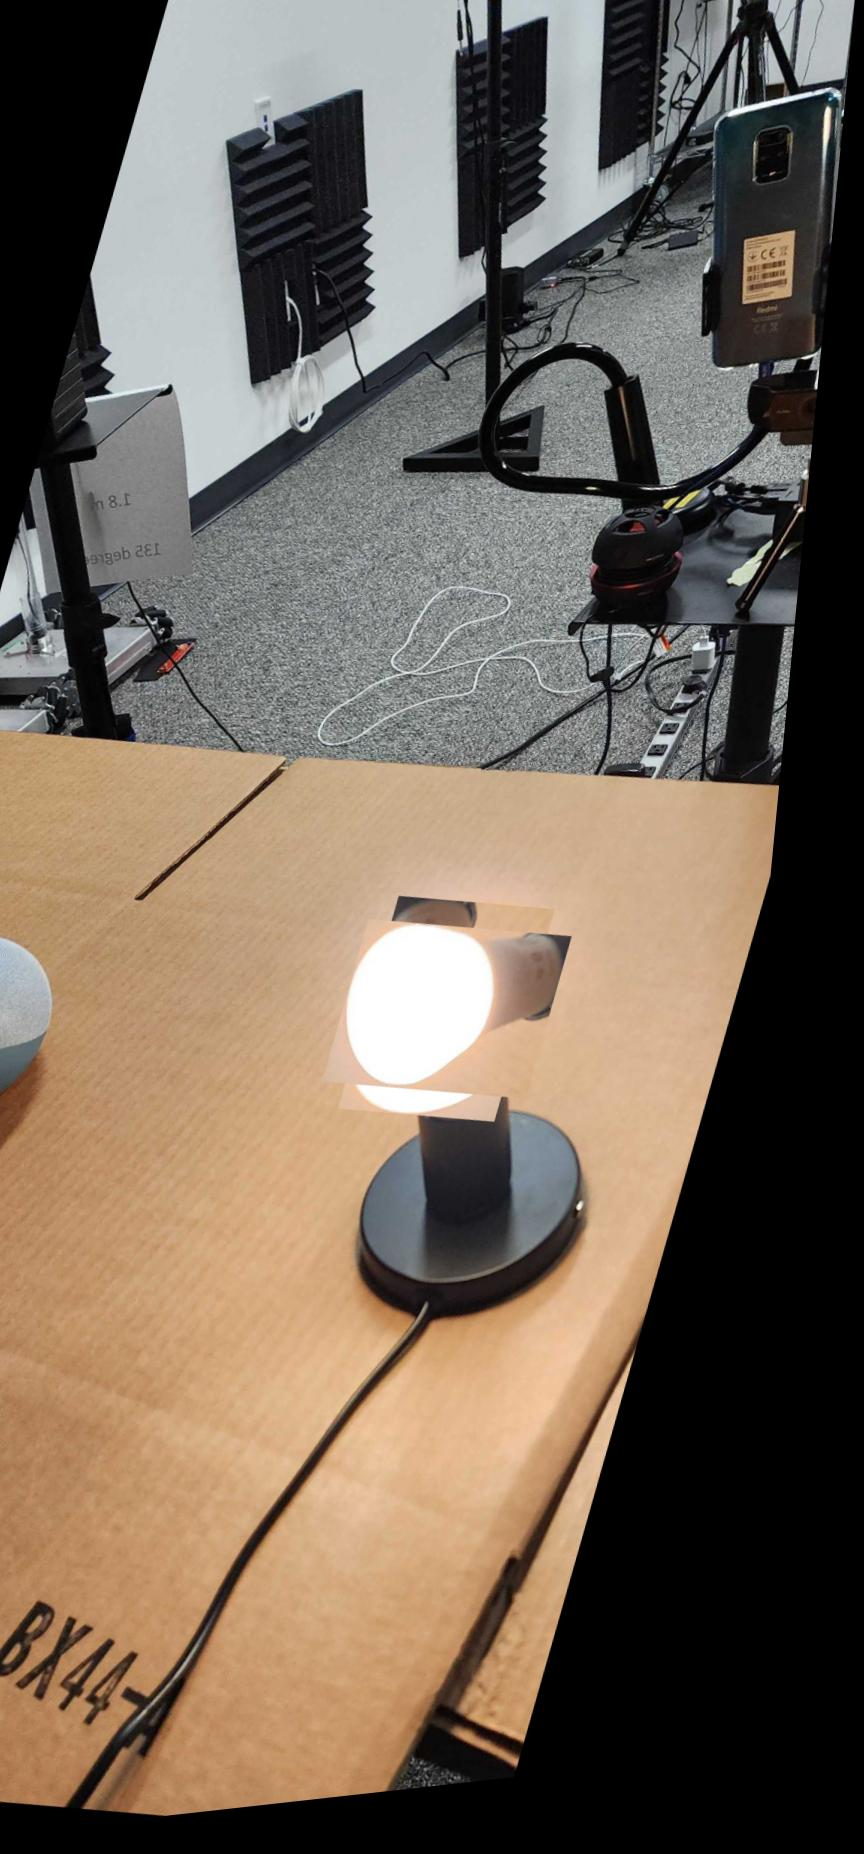TubeLight: (350, 901, 584, 1141)
